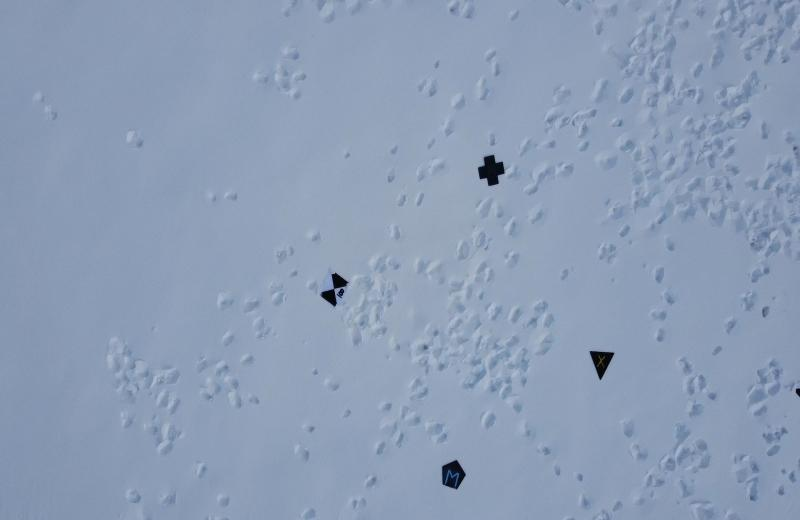Cross: (474, 151, 505, 186)
Pentagon: (439, 458, 471, 494)
Triangle: (587, 345, 621, 386)
